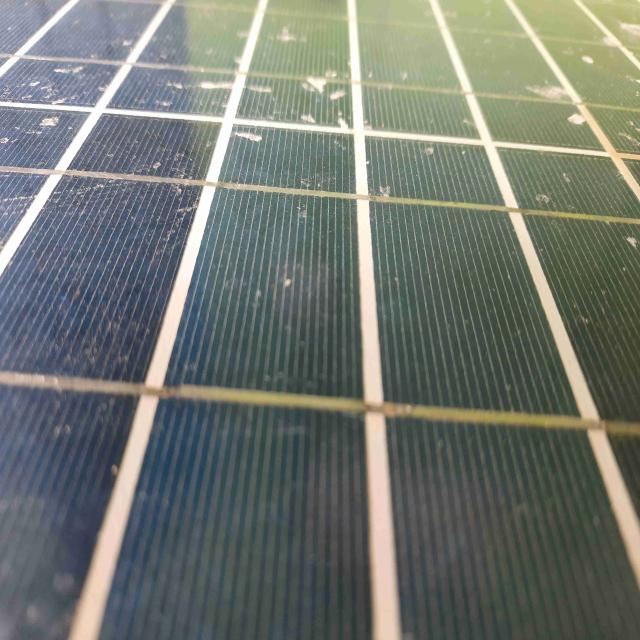dust-solar-panel: (0, 0, 640, 638)
